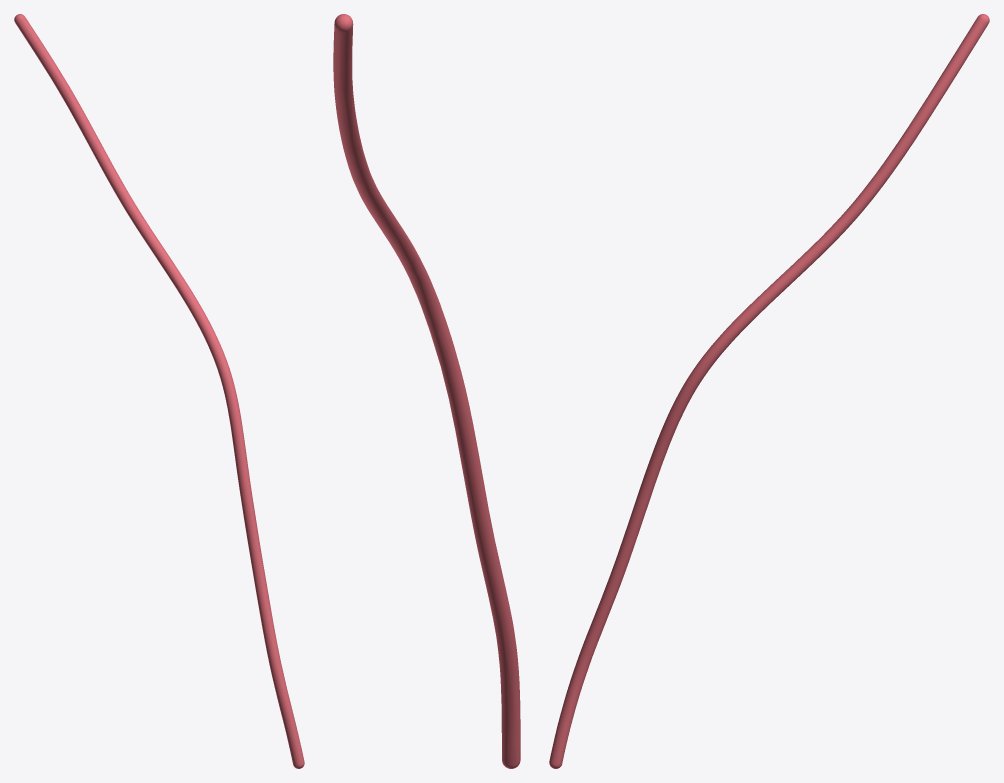
File: fma76303_fj1937.glb
3 renders of one model, left to right at view 1: azimuth 30°, elevation 25°; view 2: azimuth 150°, elevation 25°; view 3: azimuth 270°, elevation 25°, orthographic. The views are drawn at different scales.
Visible parts, largest first — view 1: FMA76303_FJ1937; view 2: FMA76303_FJ1937; view 3: FMA76303_FJ1937.
Part boxes in pixels (x1,y1,x2,y2): FMA76303_FJ1937: (14,14,304,768); FMA76303_FJ1937: (333,14,520,768); FMA76303_FJ1937: (549,14,989,768).
Size of the model in its own units: 0.0284 by 0.1776 by 0.1003.
